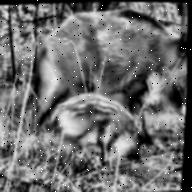boar: (51, 85, 151, 176)
